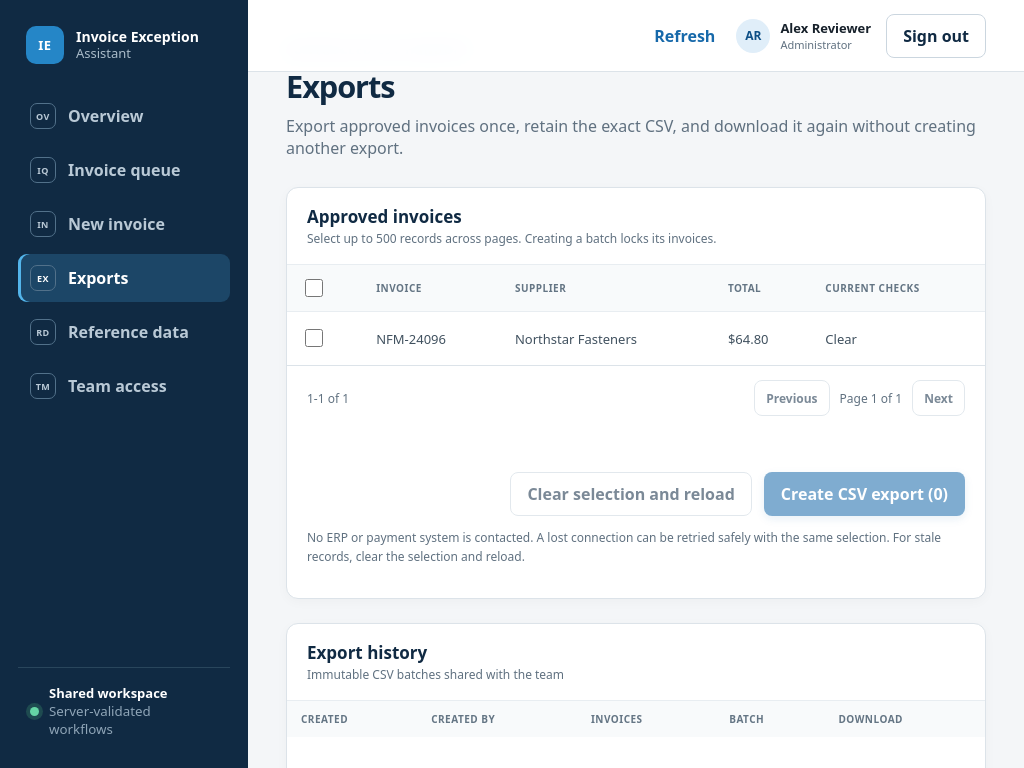
Test: CSV exports › distinguishes saved batches from failed downloads and keeps recovery history
(page scrolled)
Click the checkbox named "Select all invoices on this page" at (314, 288), box [305,279,323,297]
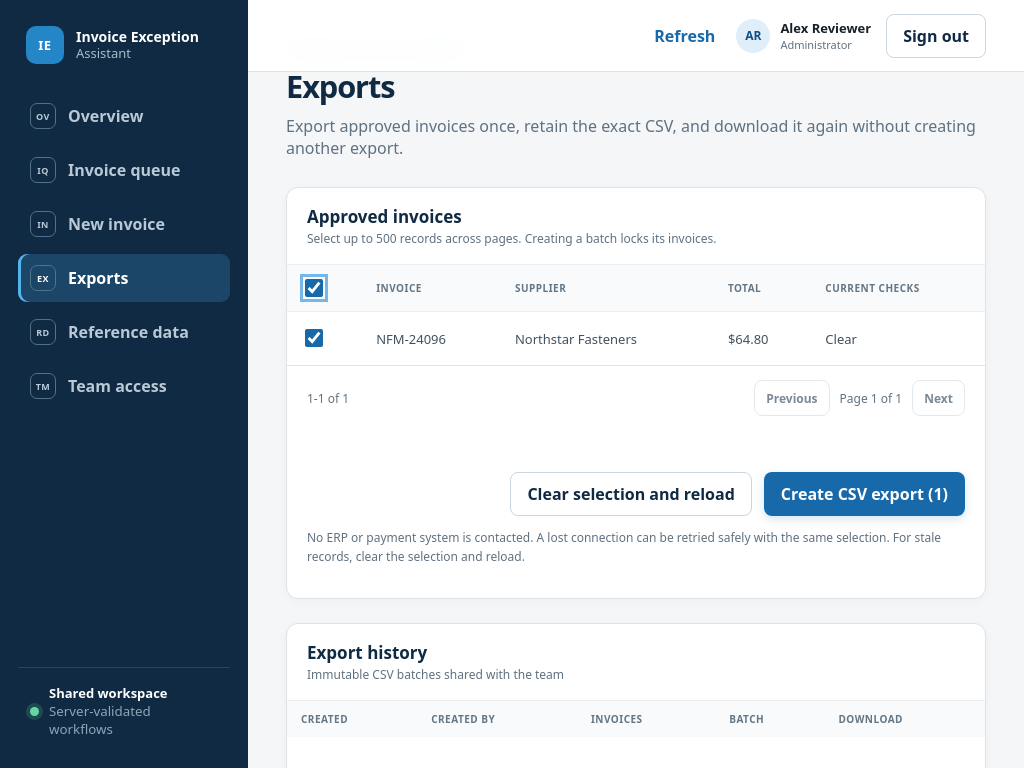
Click the button "Create CSV export (1)" at (864, 494), box [764,472,965,516]
(page scrolled)
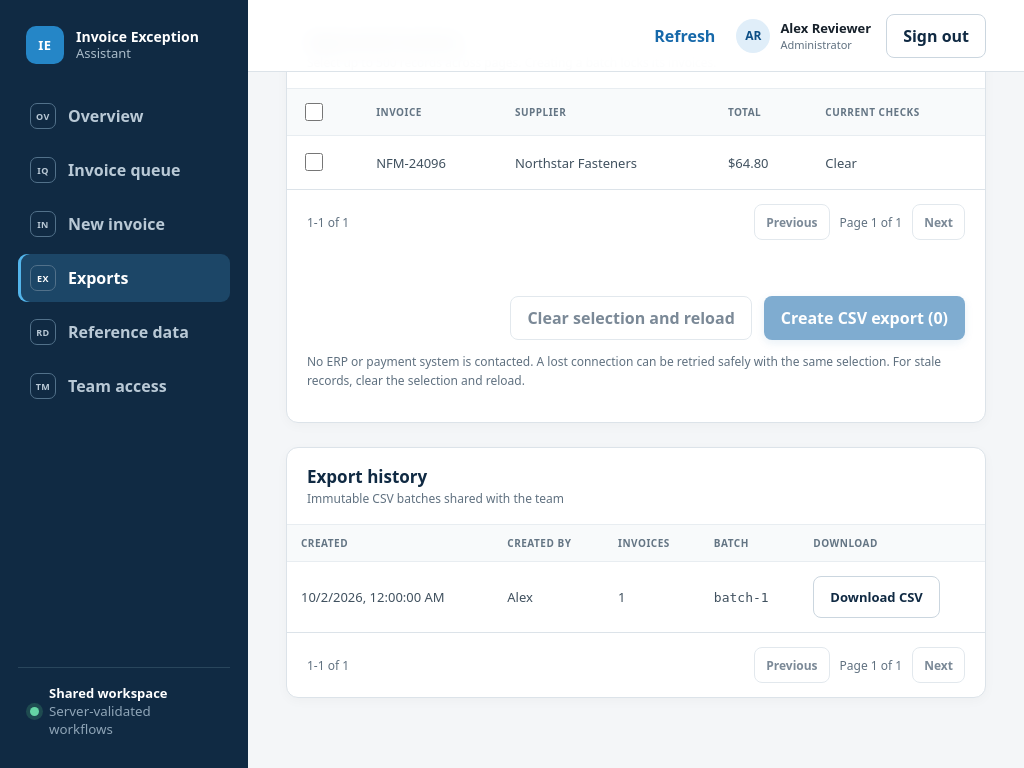
Expected: the button "Download CSV" is shown, [813,576,940,618]
